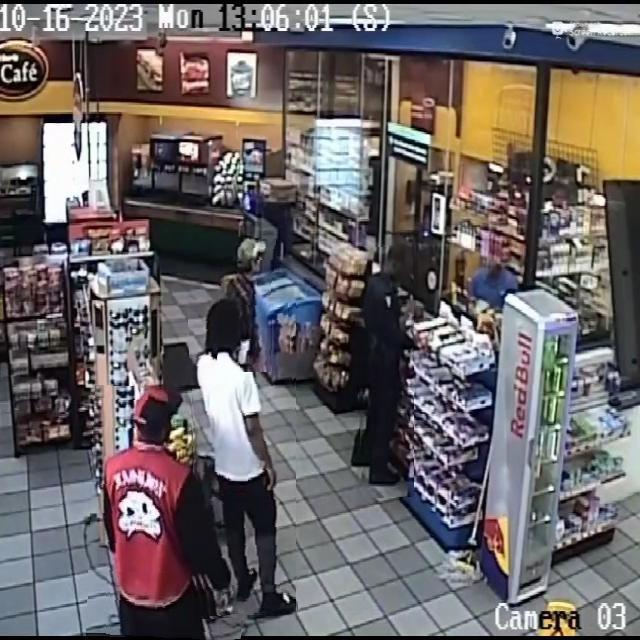Normal: (87, 386, 241, 640), (190, 298, 296, 616), (355, 230, 415, 498), (218, 237, 274, 372)
